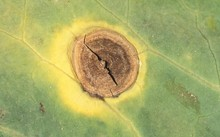damaged_cabbage: (50, 18, 162, 112)
